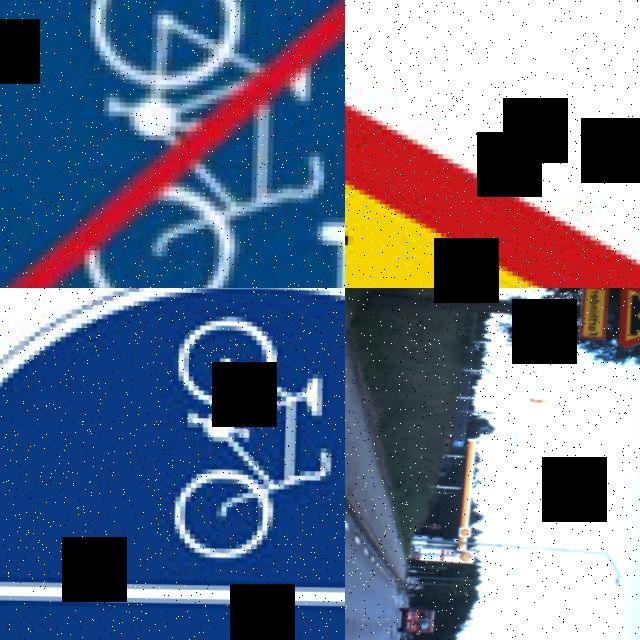121: (609, 288, 640, 352)
150: (345, 0, 640, 288)
18: (0, 0, 345, 288)
99: (0, 288, 345, 640)
two way traffic: (345, 0, 640, 288)
